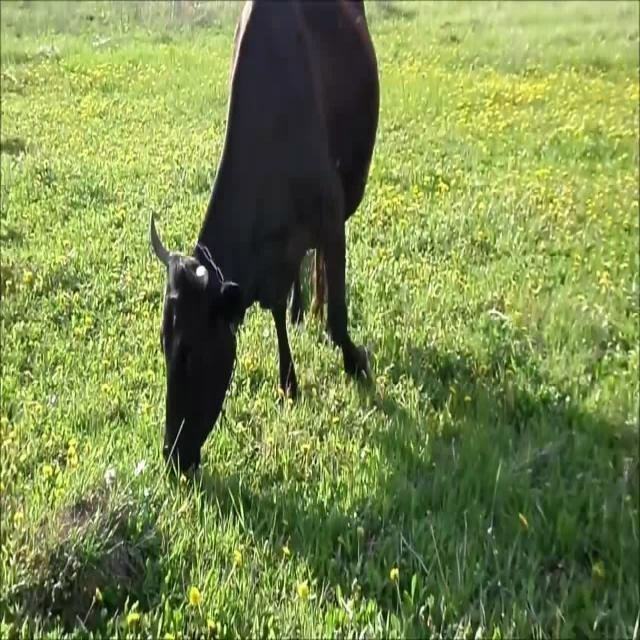cow: (151, 0, 379, 472)
